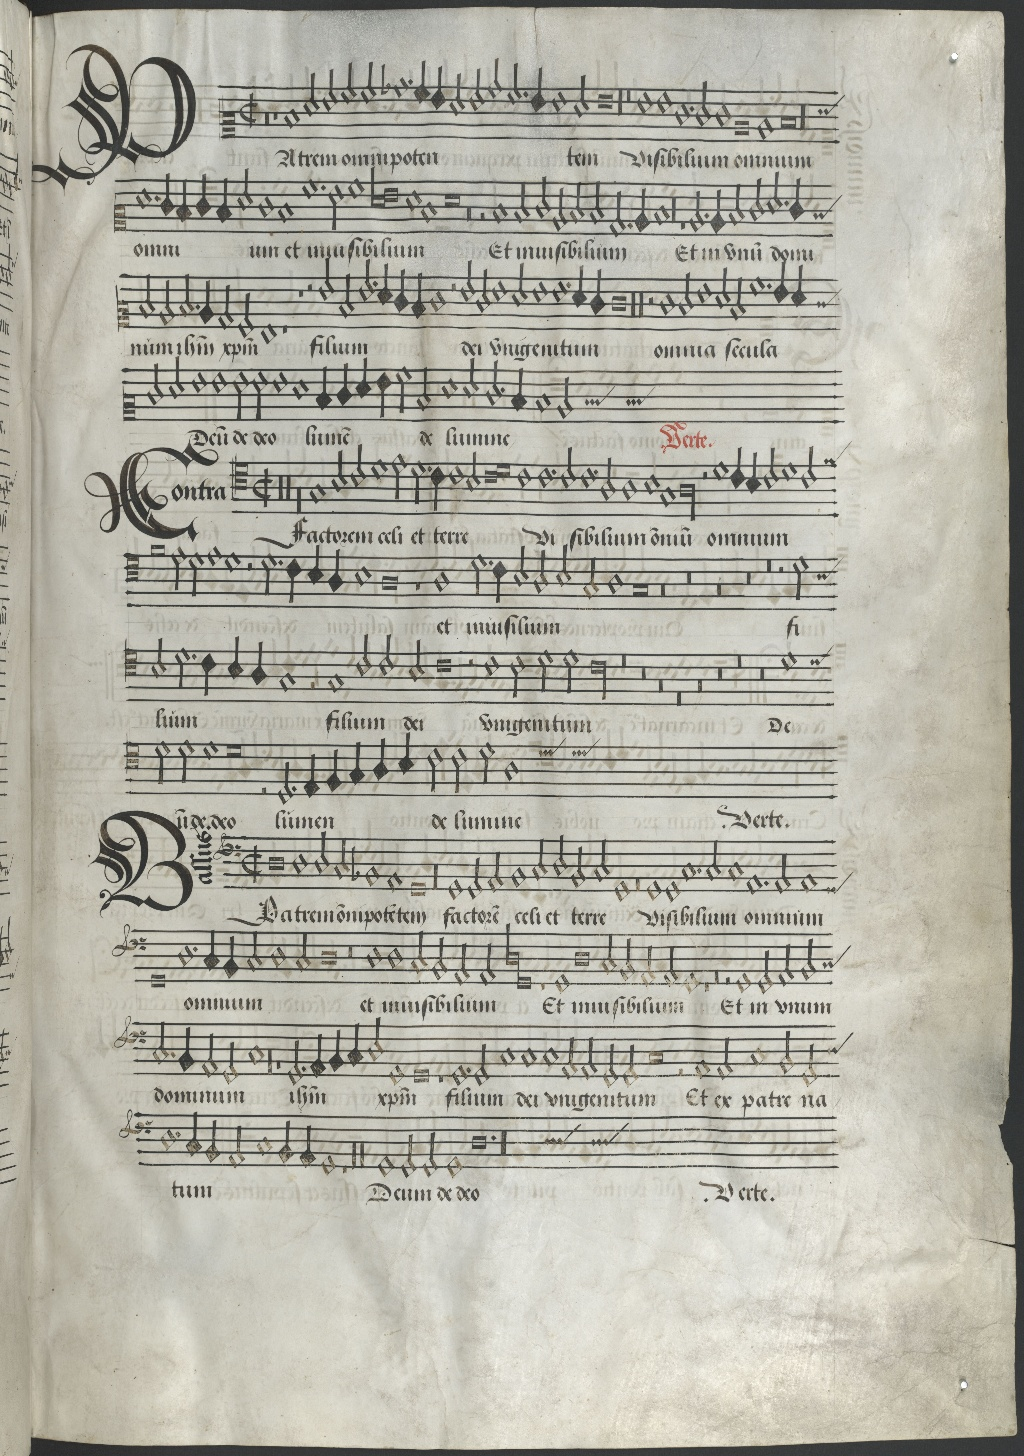breve_11: (407, 1058, 433, 1091)
breve_8: (643, 1040, 668, 1072)
custos_7: (821, 1031, 848, 1064)
f clef_5: (114, 1011, 150, 1059)
longa rest: (262, 1018, 275, 1085)
minim rest: (673, 1021, 687, 1088)
minim_10: (199, 1025, 221, 1086), (714, 1028, 735, 1088), (578, 1028, 600, 1085), (560, 1029, 580, 1087)
minim_11: (798, 1032, 819, 1093), (471, 1034, 491, 1093), (621, 1033, 641, 1091), (601, 1035, 619, 1093), (285, 1031, 303, 1091)
minim_12: (221, 1032, 240, 1089)
minim_7: (366, 1011, 387, 1070)
minim_8: (149, 1012, 168, 1072)
minim_9: (776, 1022, 797, 1081)
point: (162, 1043, 178, 1065), (294, 1059, 309, 1079), (459, 1059, 474, 1079)
semibreve rest: (433, 1021, 446, 1091), (272, 1018, 284, 1085)
semibreve_10: (689, 1049, 713, 1086)
semibreve_11: (385, 1055, 408, 1091), (447, 1056, 467, 1093)
semibreve_8: (745, 1037, 769, 1074), (518, 1037, 539, 1076), (495, 1037, 518, 1074), (244, 1035, 265, 1073), (539, 1037, 560, 1074)
semiminim_10: (310, 1026, 326, 1085)
semiminim_8: (346, 1016, 363, 1076)
semiminim_9: (177, 1021, 196, 1080), (328, 1021, 345, 1079)
